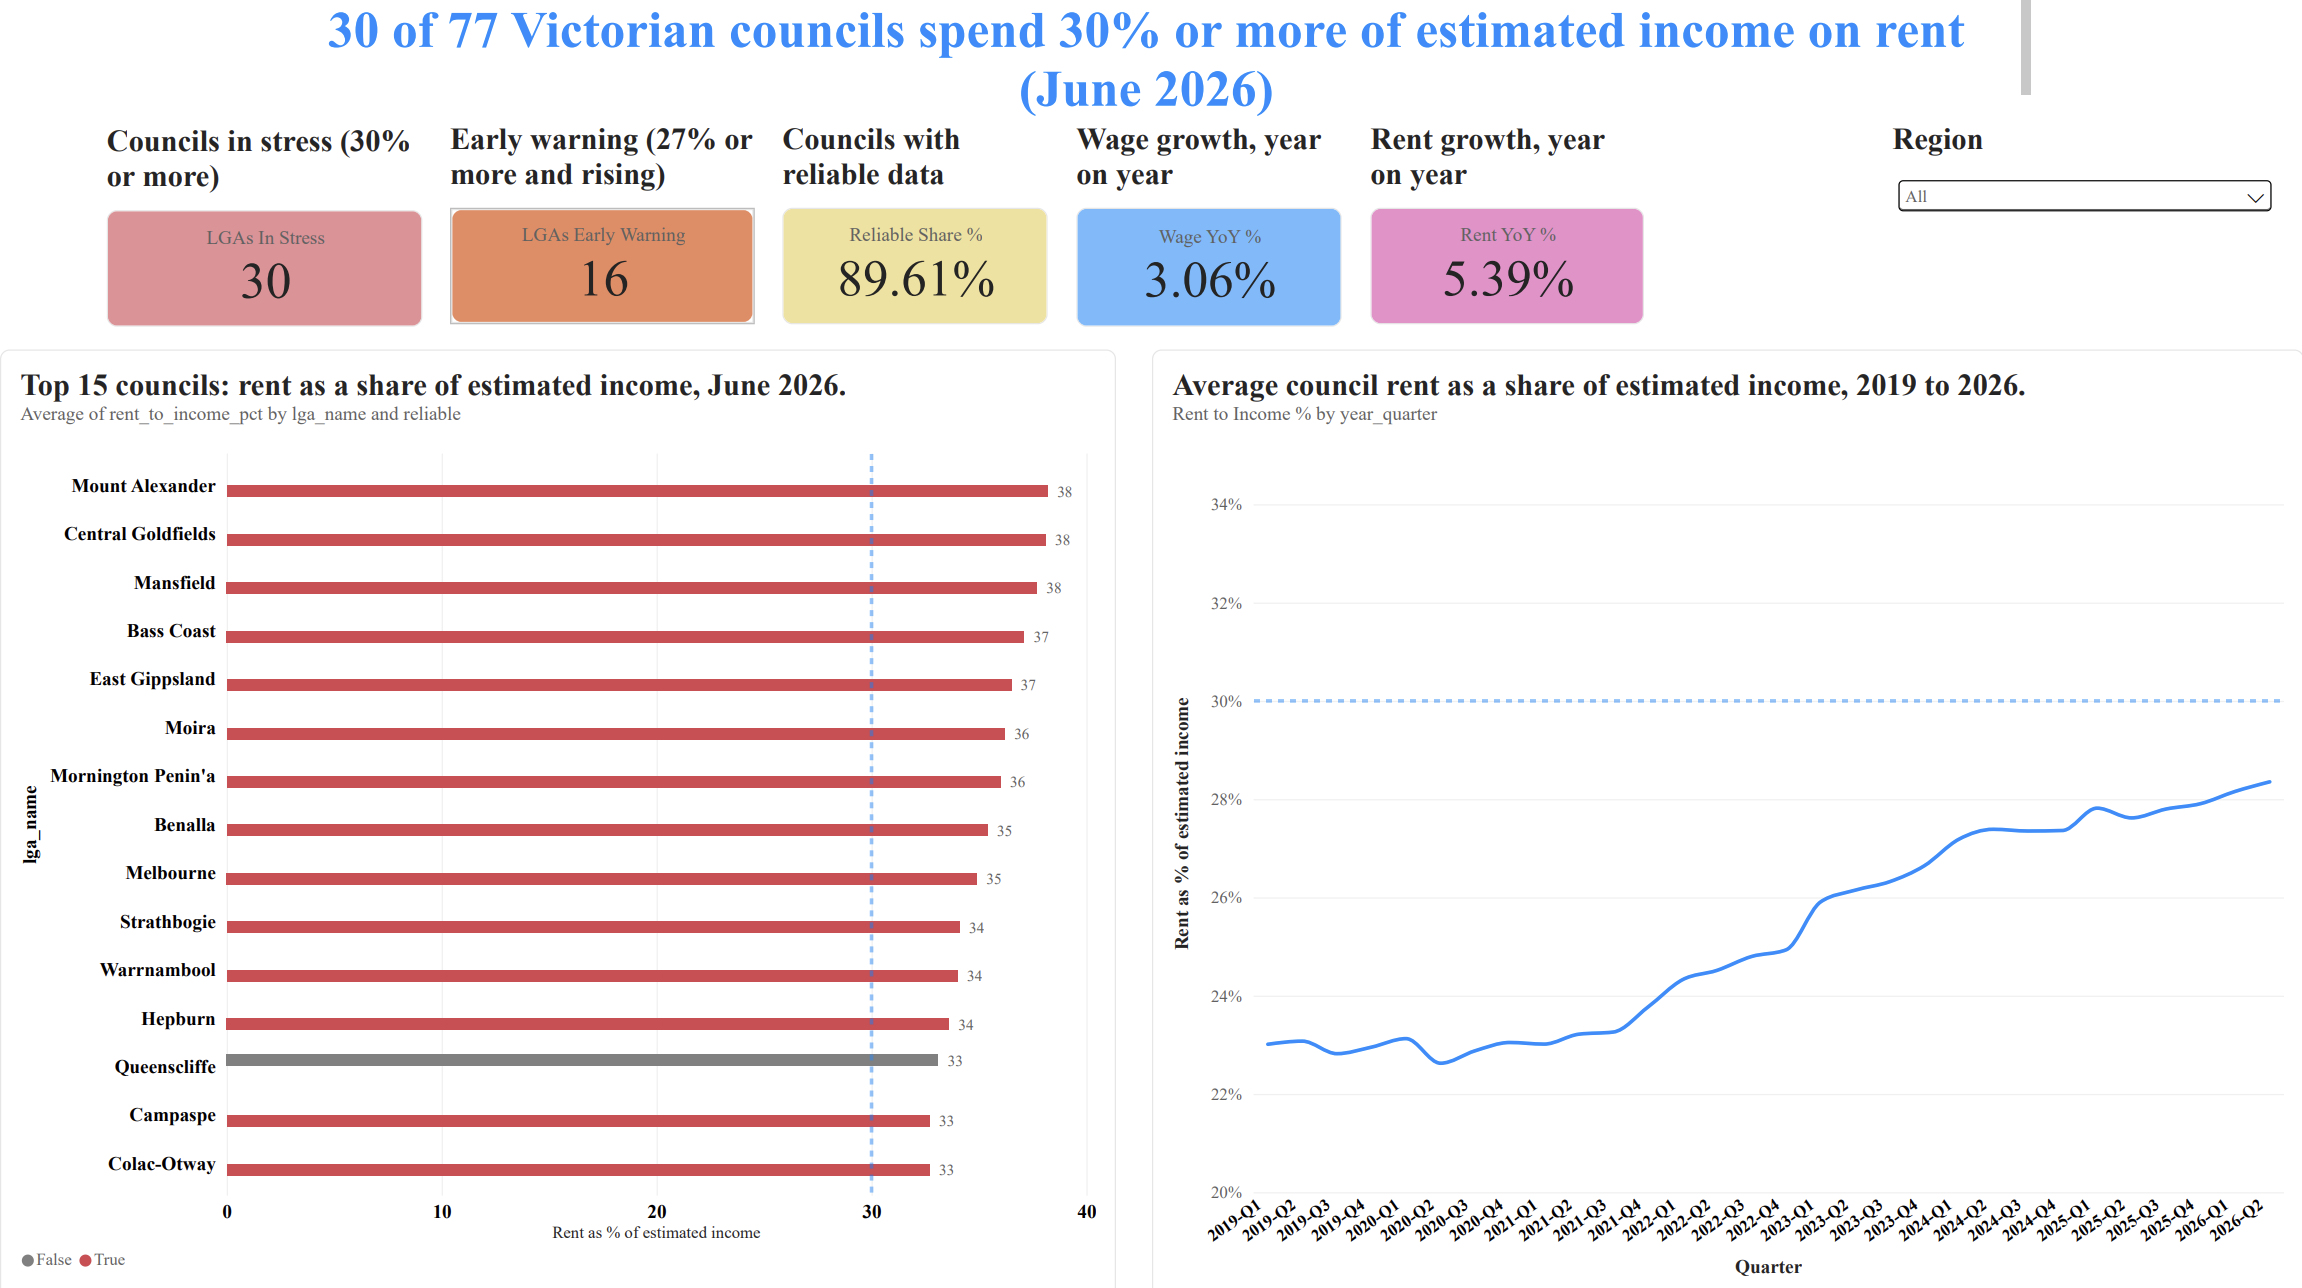

What the dashboard file says about the page in this screenshot:
{"tool":"powerbi","page":{"name":"Overview","canvas":[1920,1080],"ordinal":0},"visuals":[{"type":"textbox","box":[226.6,0,1464.6,103],"z":0},{"type":"cardVisual","title":"Councils in stress (30% or more)","fields":{"Data":["mart_ratio.LGAs In Stress"]},"box":[89.2,103,263.2,169.3],"z":1000},{"type":"cardVisual","title":"Early warning (27% or more and rising)","fields":{"Data":["mart_ratio.LGAs Early Warning"]},"box":[375.3,100.7,254,169.3],"z":2000},{"type":"cardVisual","title":"Councils with reliable data","fields":{"Data":["mart_ratio.Reliable Share %"]},"box":[652.2,100.7,222,169.3],"z":3000},{"type":"cardVisual","title":"Wage growth, year on year","fields":{"Data":["mart_ratio.Wage YoY %"]},"box":[897.1,100.7,222,171.6],"z":4000},{"type":"cardVisual","title":"Rent growth, year on year","fields":{"Data":["mart_ratio.Rent YoY %"]},"box":[1141.9,100.7,228.8,169.3],"z":5000},{"type":"clusteredBarChart","title":"Top 15 councils: rent as a share of estimated income, June 2026.","fields":{"Category":["early_warning.lga_name"],"Series":["early_warning.reliable"],"Y":["Avg(early_warning.rent_to_income_pct)"]},"box":[0,291.2,930.4,789.7],"z":6000},{"type":"lineChart","title":"Average council rent as a share of estimated income, 2019 to 2026.","fields":{"Category":["dim_date.year_quarter"],"Y":["mart_ratio.Rent to Income %"]},"box":[960,291.2,960,789.7],"z":7000},{"type":"slicer","title":"Region","fields":{"Values":["dim_lga.region"]},"box":[1576.7,100.7,321,167],"z":8000}]}

Visuals, with their boxes in screenshot pixels (x1, y1, x2, y2), scaled from the page's 1920x1080 canvas onto the 2302x1288 screenshot:
textbox: (x1=272, y1=0, x2=2028, y2=123)
"Councils in stress (30% or more)" cardVisual: (x1=107, y1=123, x2=423, y2=325)
"Early warning (27% or more and rising)" cardVisual: (x1=450, y1=120, x2=755, y2=322)
"Councils with reliable data" cardVisual: (x1=782, y1=120, x2=1048, y2=322)
"Wage growth, year on year" cardVisual: (x1=1076, y1=120, x2=1342, y2=325)
"Rent growth, year on year" cardVisual: (x1=1369, y1=120, x2=1643, y2=322)
"Top 15 councils: rent as a share of estimated income, June 2026." clusteredBarChart: (x1=0, y1=347, x2=1116, y2=1287)
"Average council rent as a share of estimated income, 2019 to 2026." lineChart: (x1=1151, y1=347, x2=2301, y2=1287)
"Region" slicer: (x1=1890, y1=120, x2=2275, y2=319)
